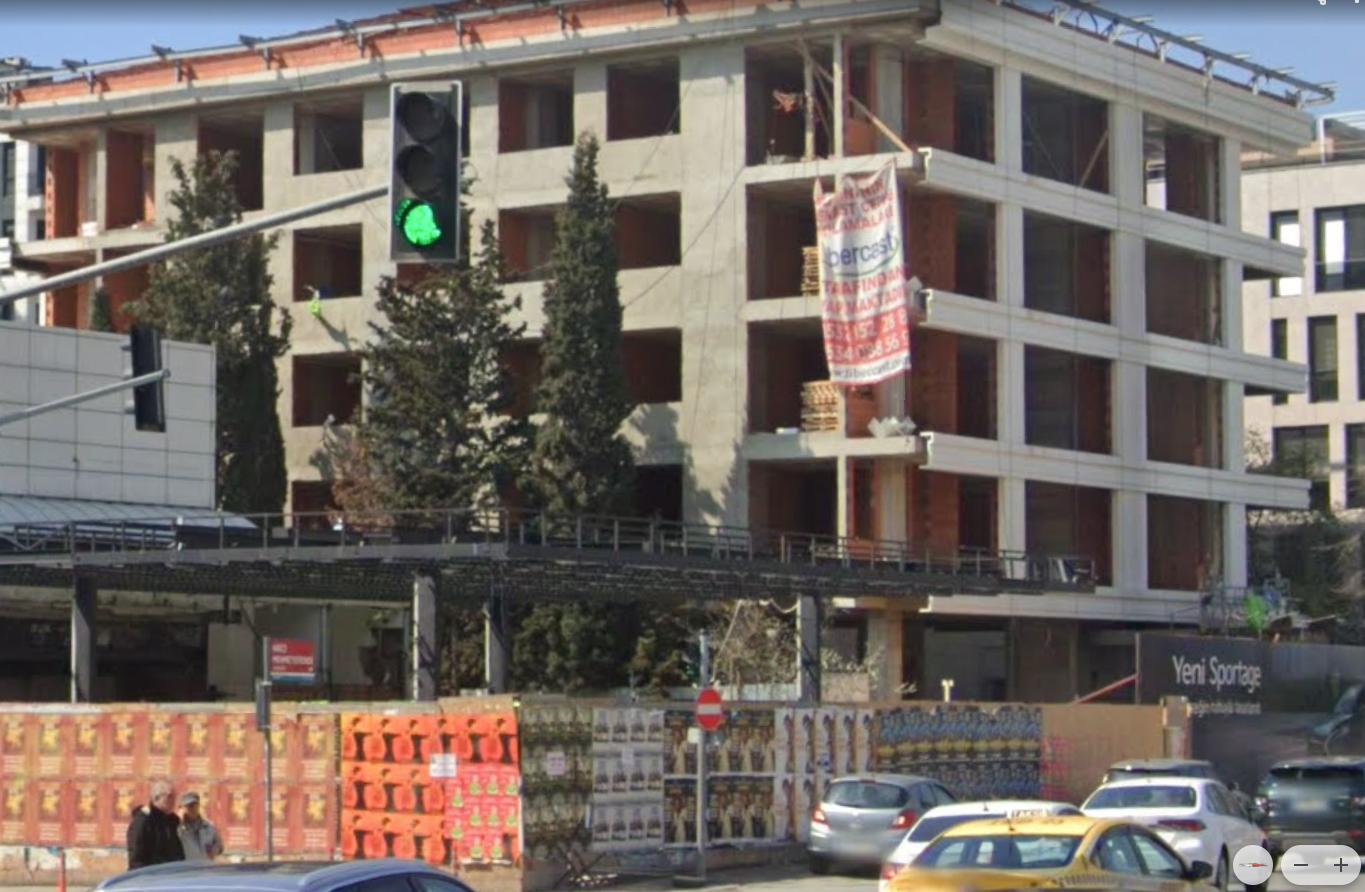greenlight: (394, 86, 463, 263)
